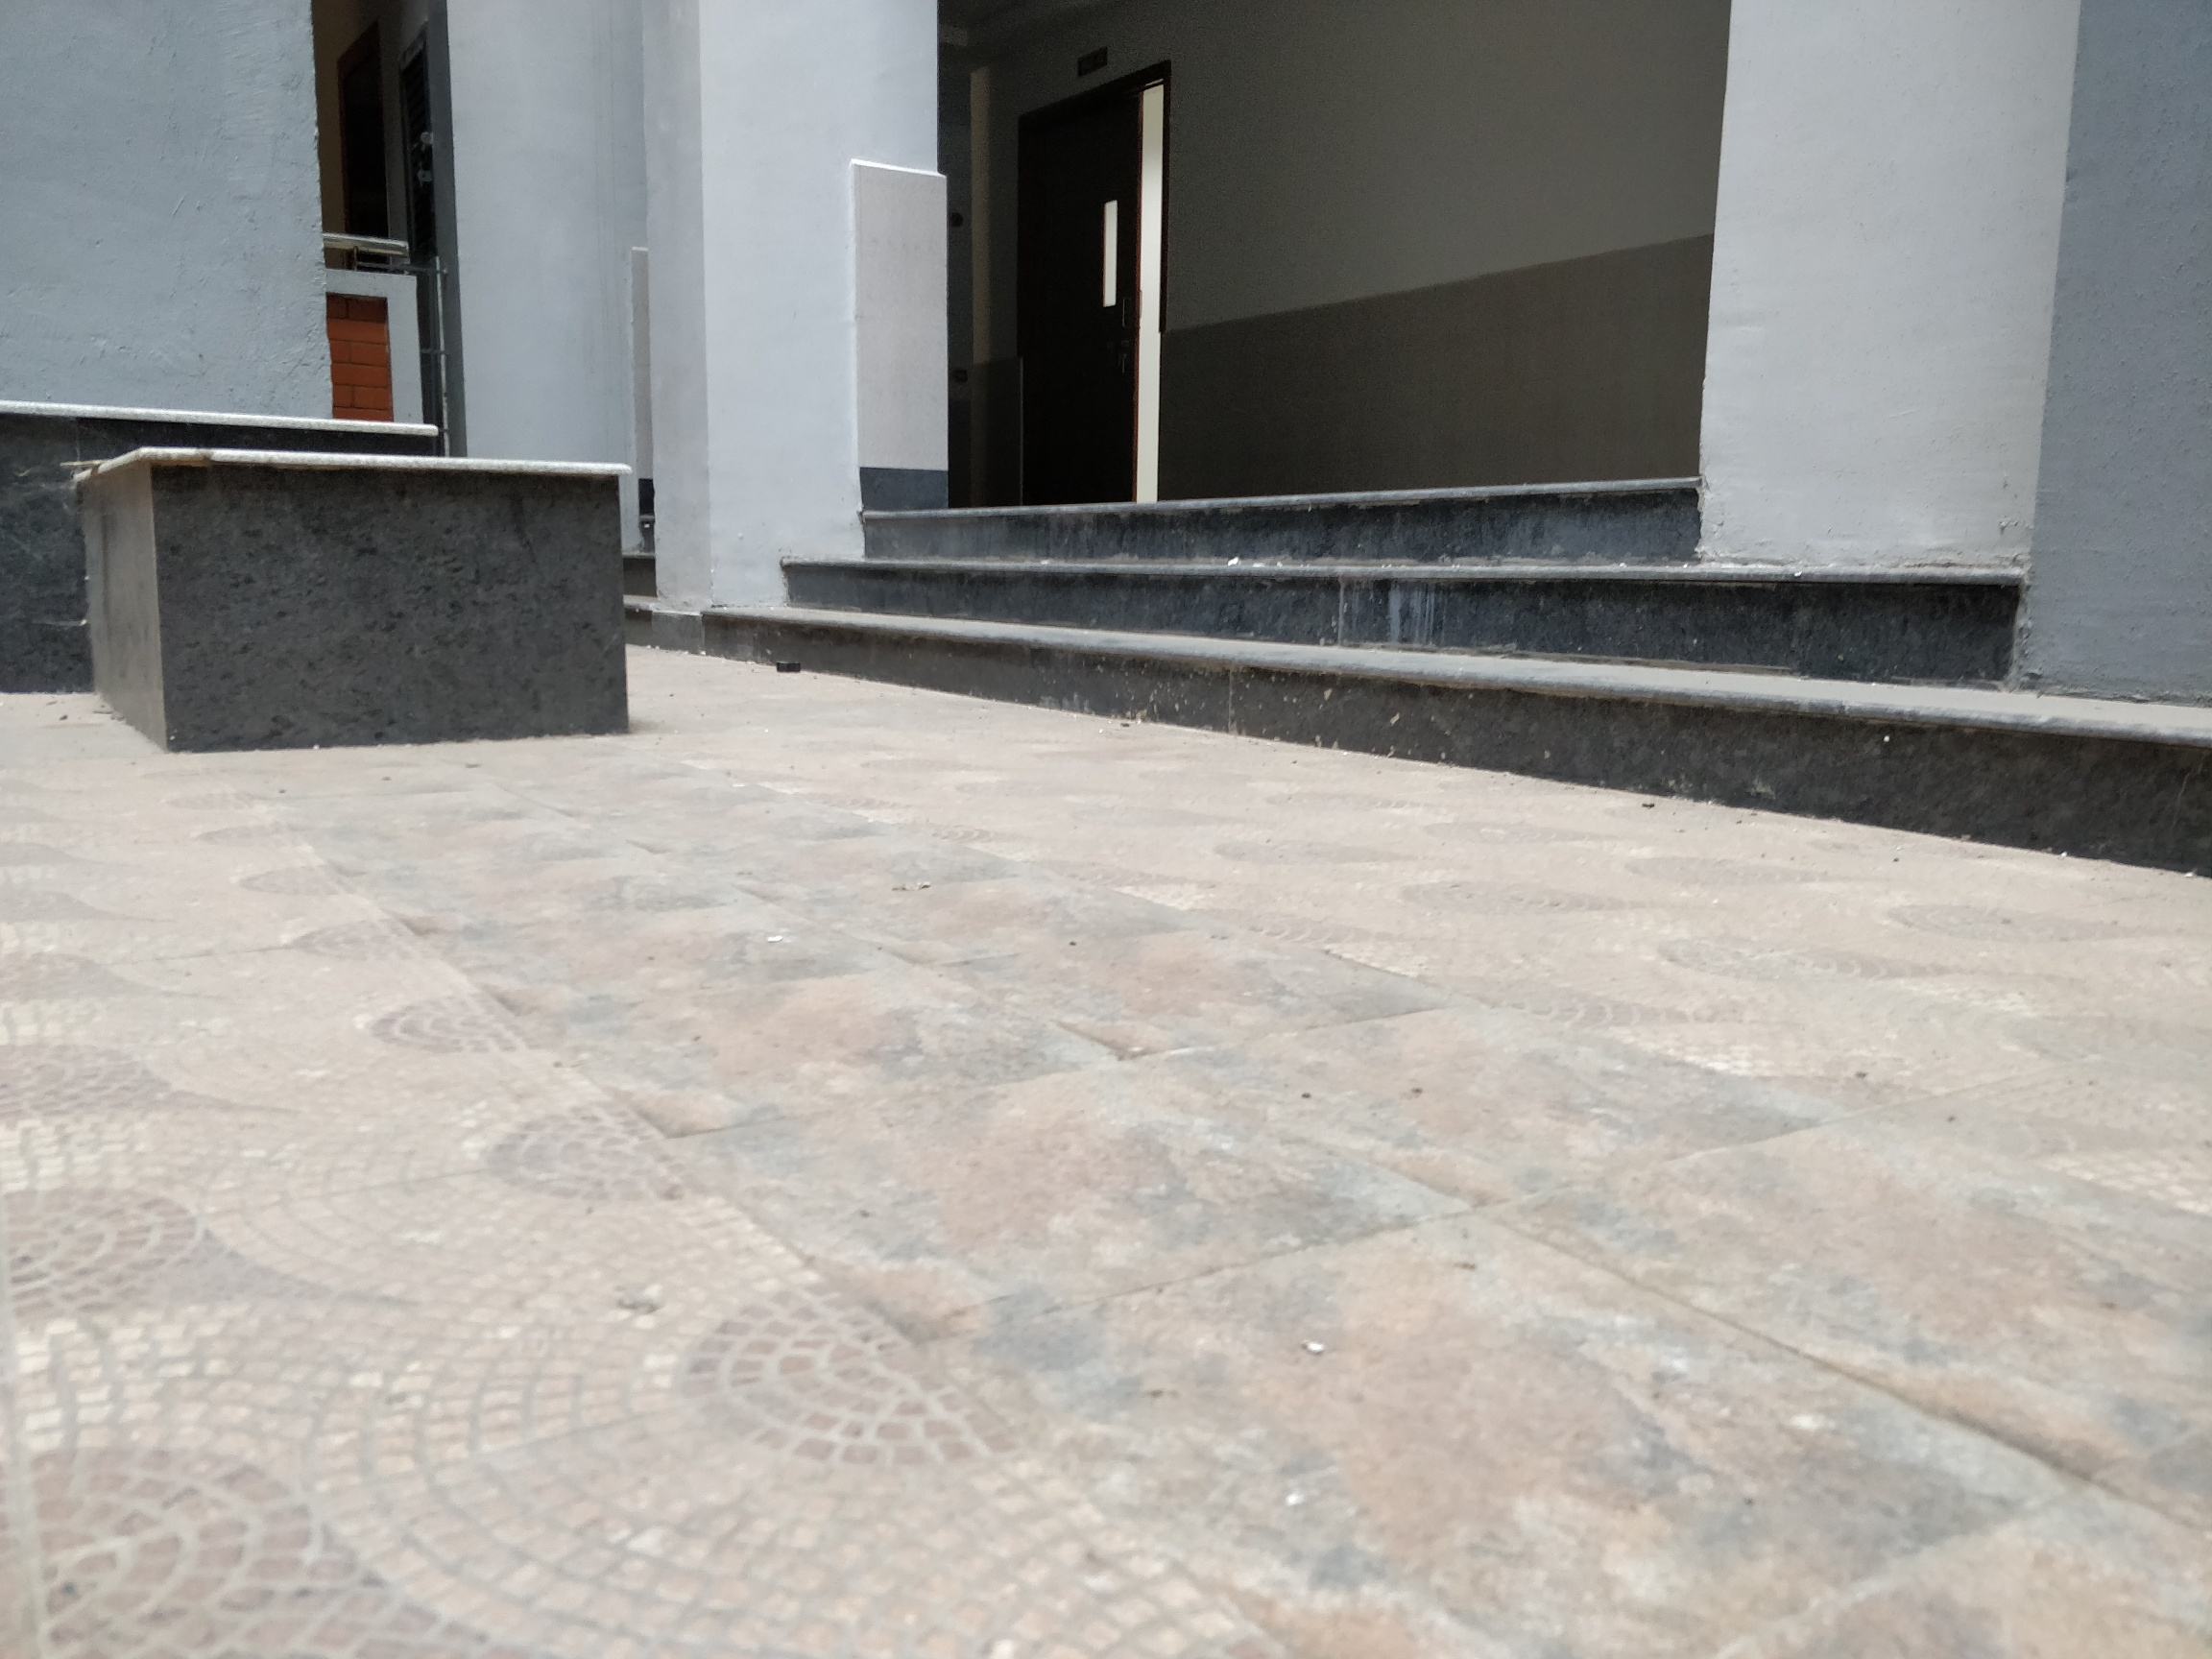stairs_up: (782, 467, 1709, 727)
